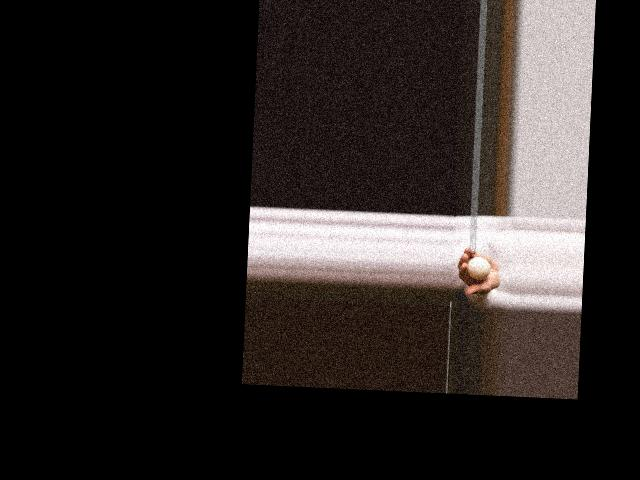egg: (465, 256, 490, 280)
